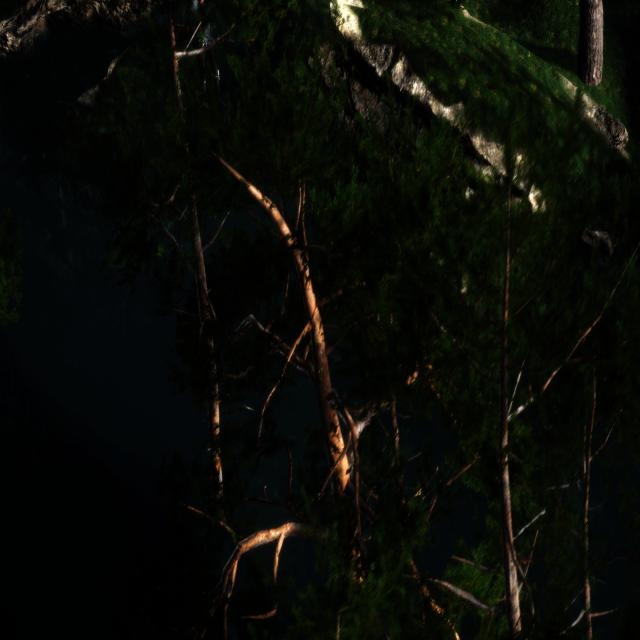Human: (190, 0, 223, 110)
